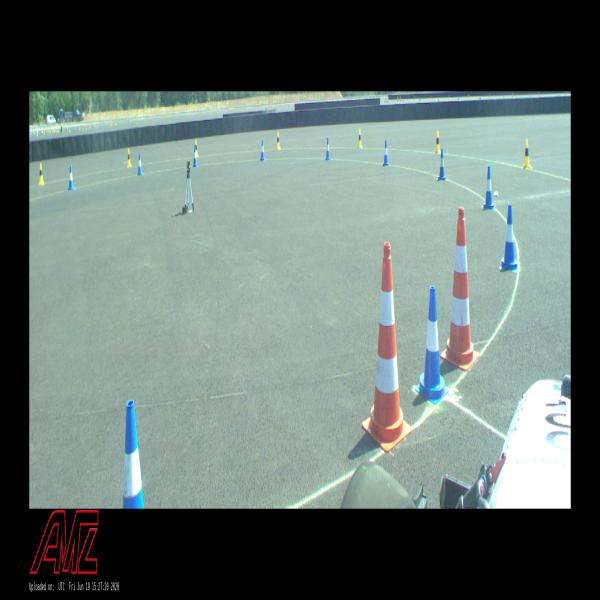blue_cone: (417, 286, 445, 403), (122, 400, 145, 509), (501, 206, 518, 269), (483, 167, 494, 210), (438, 148, 446, 181), (382, 140, 389, 167), (68, 166, 74, 190), (324, 137, 330, 160), (136, 154, 142, 176), (260, 139, 265, 161), (193, 146, 198, 166)
large_orange_cone: (362, 243, 411, 449), (441, 210, 480, 368)
yellow_cone: (522, 138, 531, 170), (435, 131, 441, 153), (38, 163, 44, 184), (357, 128, 362, 147), (127, 149, 131, 167), (276, 132, 280, 148), (195, 140, 198, 157)
